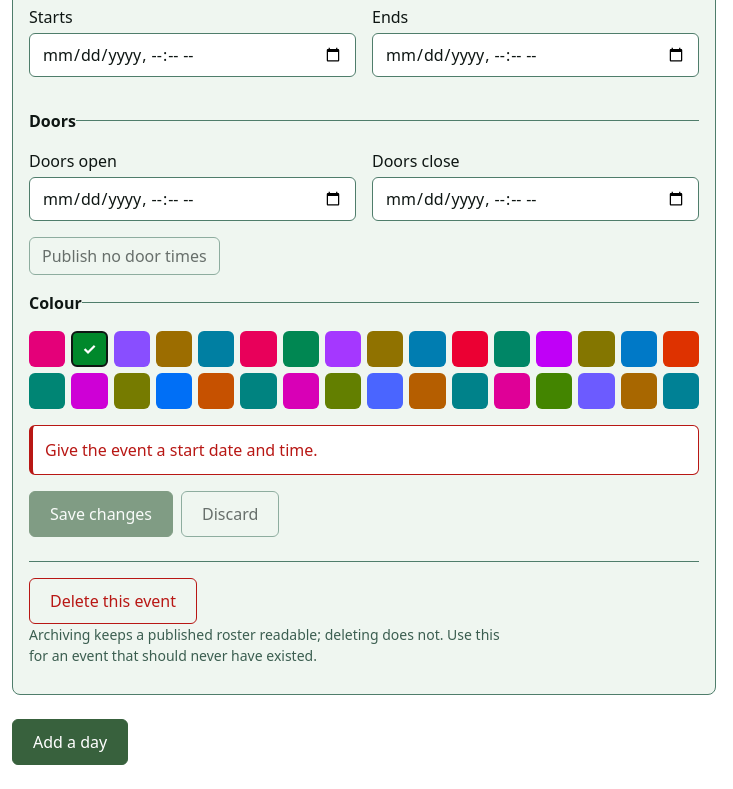
Test: adding a day from the details section › adds to the festival even when narrowed to one of its days
(page scrolled)
Click the button "Add a day" at coordinates (70, 742), box [12,719,128,765]
(page scrolled)
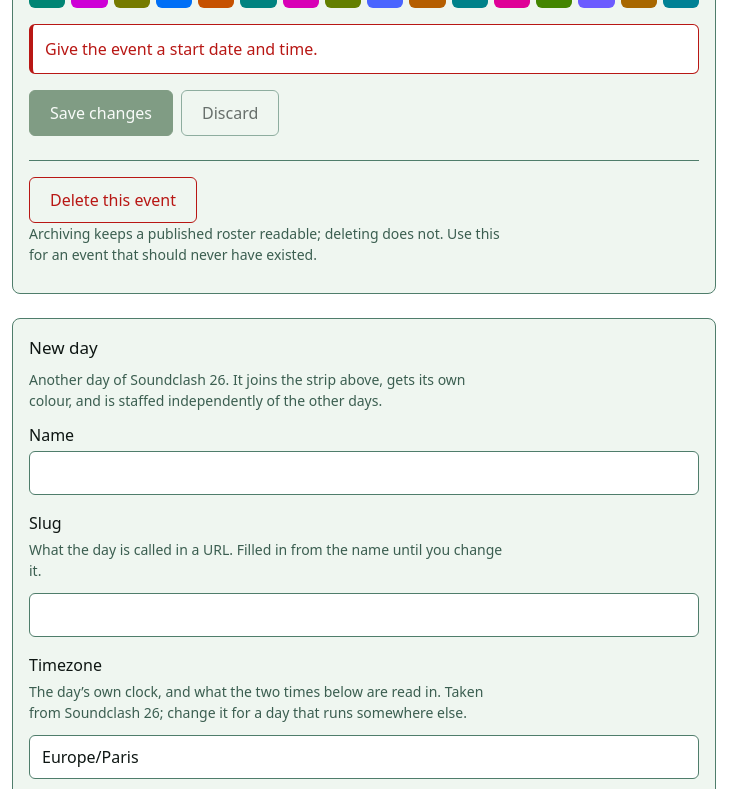
Now the text with class "evp-hint" shows "Soundclash 26", box [29,370,466,410]
